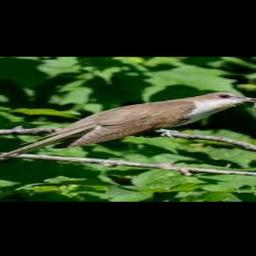Cuckoo: (0, 91, 256, 171)
